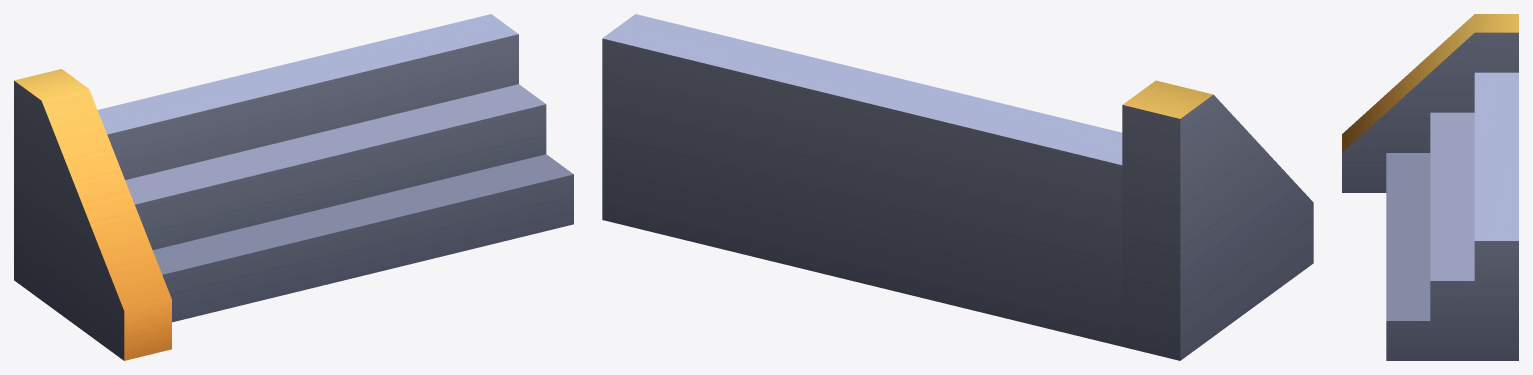
Rendered from stairs-small-edge.glb.
The picture shows the model from 3 angles, left to right: view 1: azimuth 30°, elevation 25°; view 2: azimuth 150°, elevation 25°; view 3: azimuth 270°, elevation 25°; orthographic projection. The views are drawn at different scales.
Visible parts, largest first — view 1: stairs-small-edge; view 2: stairs-small-edge; view 3: stairs-small-edge.
Boxes of the visible parts, <box> form: stairs-small-edge: <box>14,14,573,360</box>; stairs-small-edge: <box>602,14,1313,360</box>; stairs-small-edge: <box>1342,14,1518,360</box>.
Size of the model in its own units: 1 by 0.4 by 0.4.
Materials: 1 (1 with a texture image).
